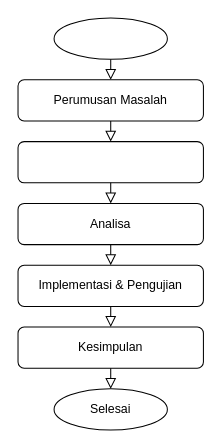
Image size: 221x448. Some labels were removed from this diagram. The centre of each missing label's shape, as x and y in pixels:
"Mulai" goes at (x=110, y=38).
"Pengumpulan Data" goes at (x=110, y=162).
